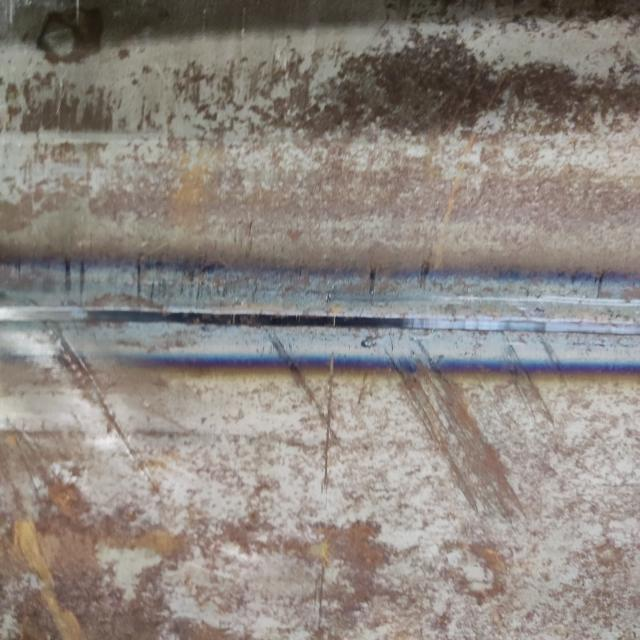seam: (0, 240, 640, 385)
